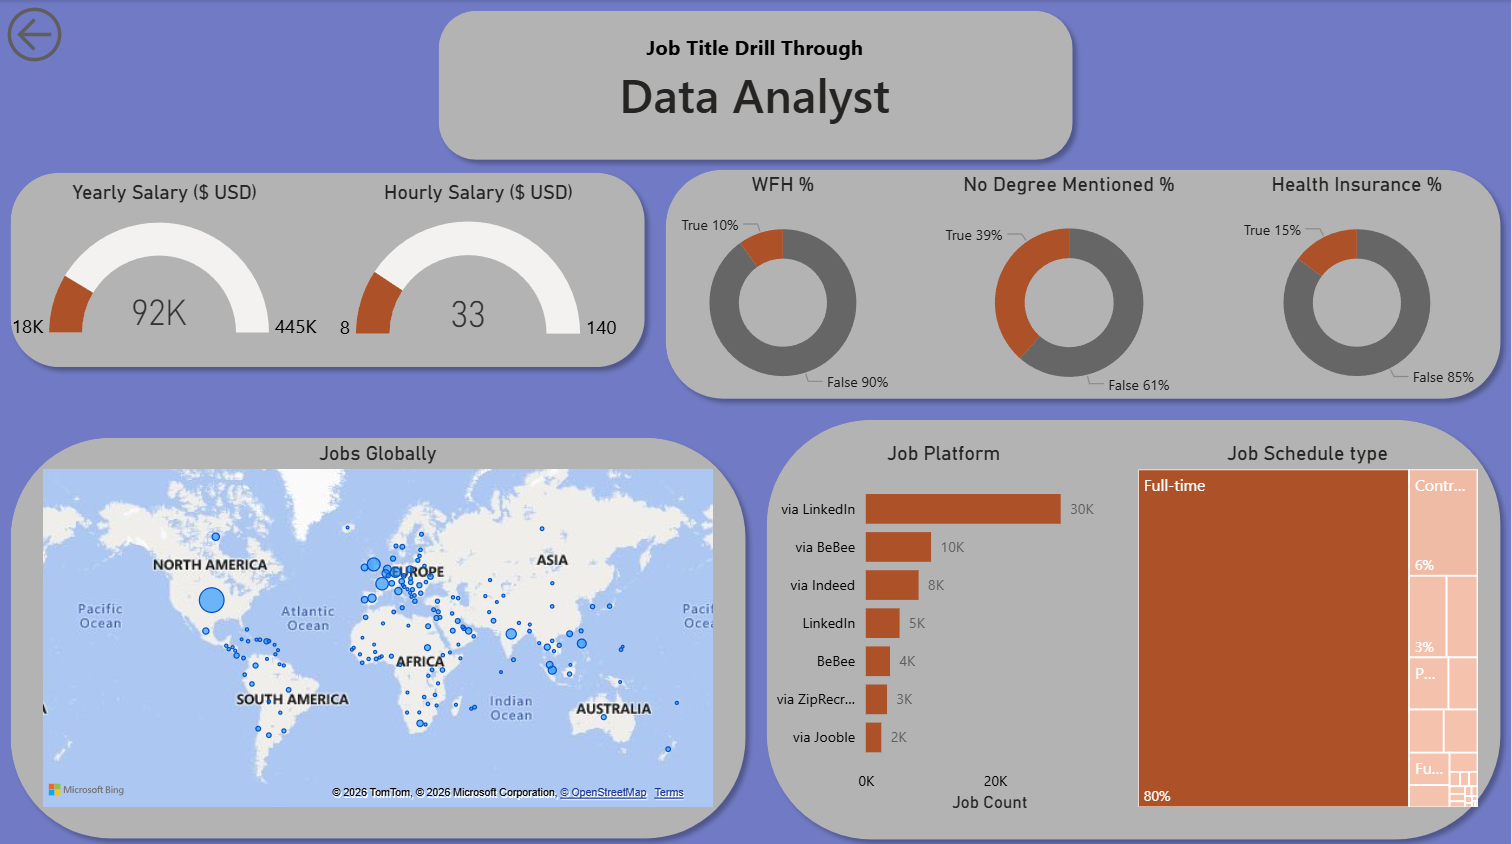

What the dashboard file says about the page in this screenshot:
{"tool":"powerbi","page":{"name":"Job Title Through","canvas":[1280,720],"ordinal":1},"visuals":[{"type":"group","id":"g1","title":"Background Shapes","box":[0,0,1280,719.7],"z":1000},{"type":"shape","box":[362.5,0,555,144.4],"z":1000,"group":"g1"},{"type":"cardVisual","title":"Job Count","fields":{"Data":["Min(job_postings_flat.job_title_short)1"]},"box":[162.1,0,955.8,134.6],"z":2000},{"type":"shape","box":[0,137,555,182.7],"z":2000,"group":"g1"},{"type":"actionButton","box":[0,0,58.4,58.4],"z":3000},{"type":"shape","box":[554.8,134.3,725.2,212],"z":3000,"group":"g1"},{"type":"gauge","title":"Yearly Salary ($ USD)","fields":{"Y":["Avg(job_postings_flat.salary_year_avg)"],"MinValue":["Min(job_postings_flat.salary_year_avg)"],"MaxValue":["Max(job_postings_flat.salary_year_avg)"]},"box":[0,152.3,278,151.3],"z":4000},{"type":"shape","box":[0,361.9,640.5,357.6],"z":4000,"group":"g1"},{"type":"gauge","title":"Hourly Salary ($ USD)","fields":{"Y":["Median(job_postings_flat.salary_hour_avg)"],"MinValue":["Min(job_postings_flat.salary_hour_avg)"],"MaxValue":["Max(job_postings_flat.salary_hour_avg)"]},"box":[278,152.3,254.4,151.3],"z":5000},{"type":"shape","box":[640.4,346,639.6,373.7],"z":5000,"group":"g1"},{"type":"donutChart","title":"WFH %","fields":{"Category":["job_postings_flat.job_work_from_home"],"Y":["CountNonNull(job_postings_flat.job_work_from_home)"]},"box":[543.5,145.3,238.7,202.4],"z":6000},{"type":"donutChart","title":"No Degree Mentioned %","fields":{"Category":["job_postings_flat.job_no_degree_mention"],"Y":["CountNonNull(job_postings_flat.job_no_degree_mention)"]},"box":[782.3,145.3,247.6,202.4],"z":7000},{"type":"donutChart","title":"Health Insurance %","fields":{"Category":["job_postings_flat.job_health_insurance"],"Y":["CountNonNull(job_postings_flat.job_health_insurance)"]},"box":[1029.8,145.3,238.7,202.4],"z":8000},{"type":"map","title":"Jobs Globally","fields":{"Size":["CountNonNull(job_postings_flat.job_title_short)"],"Category":["job_postings_flat.job_country"]},"box":[31.4,373.3,577.6,315.3],"z":9000},{"type":"barChart","title":"Job Platform","fields":{"Category":["job_postings_flat.job_via"],"Y":["CountNonNull(job_postings_flat.job_title_short)"]},"box":[640.5,373.3,318.3,319.3],"z":10000},{"type":"tableEx","title":"Most Needed skills","fields":{"Values":["Skills_Required.job_skills","CountNonNull(Skills_Required.job_skills)"]},"box":[958.8,373.3,297.7,315.3],"z":11000}]}

Visuals, with their boxes in screenshot pixels (x1, y1, x2, y2), scaled from the page's 1280x720 canvas onto the 1512x844 screenshot:
"Background Shapes" group: (0,0,1511,843)
shape: (428,0,1084,169)
"Job Count" cardVisual: (191,0,1321,158)
shape: (0,161,656,375)
actionButton: (0,0,69,68)
shape: (655,157,1511,406)
"Yearly Salary ($ USD)" gauge: (0,179,328,356)
shape: (0,424,757,843)
"Hourly Salary ($ USD)" gauge: (328,179,629,356)
shape: (756,406,1511,843)
"WFH %" donutChart: (642,170,924,408)
"No Degree Mentioned %" donutChart: (924,170,1217,408)
"Health Insurance %" donutChart: (1216,170,1498,408)
"Jobs Globally" map: (37,438,719,807)
"Job Platform" barChart: (757,438,1133,812)
"Most Needed skills" tableEx: (1133,438,1484,807)
